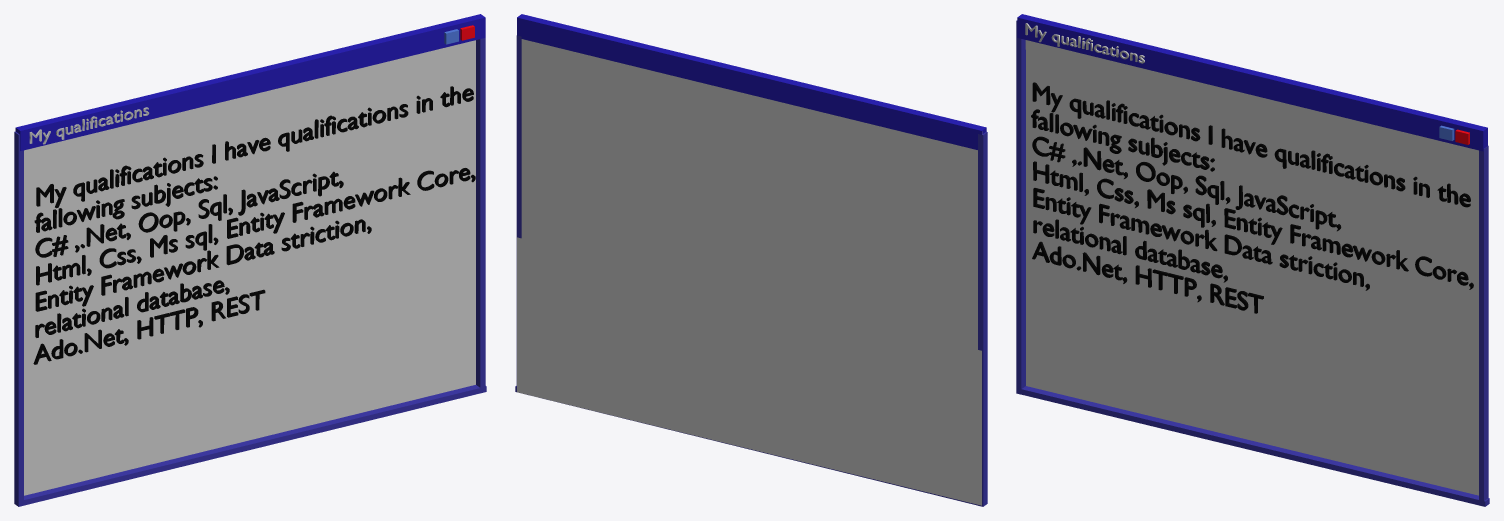
Rendered from qualificationScrean.glb.
The picture shows the model from 3 angles, left to right: view 1: azimuth 30°, elevation 25°; view 2: azimuth 150°, elevation 25°; view 3: azimuth 330°, elevation 25°; orthographic projection.
Visible parts, largest first — view 1: qualificationWindow, Text, Text.001; view 2: qualificationWindow; view 3: qualificationWindow, Text, Text.001.
Boxes of the visible parts, box(x1,y1,x2,y2) form: qualificationWindow: box(14, 14, 486, 506); Text: box(33, 86, 475, 364); Text.001: box(29, 107, 149, 144); qualificationWindow: box(515, 14, 987, 506); qualificationWindow: box(1016, 14, 1489, 506); Text: box(1031, 82, 1473, 313); Text.001: box(1025, 23, 1144, 63).
Size of the model in its own units: 1.08 by 0.8281 by 0.0283.
